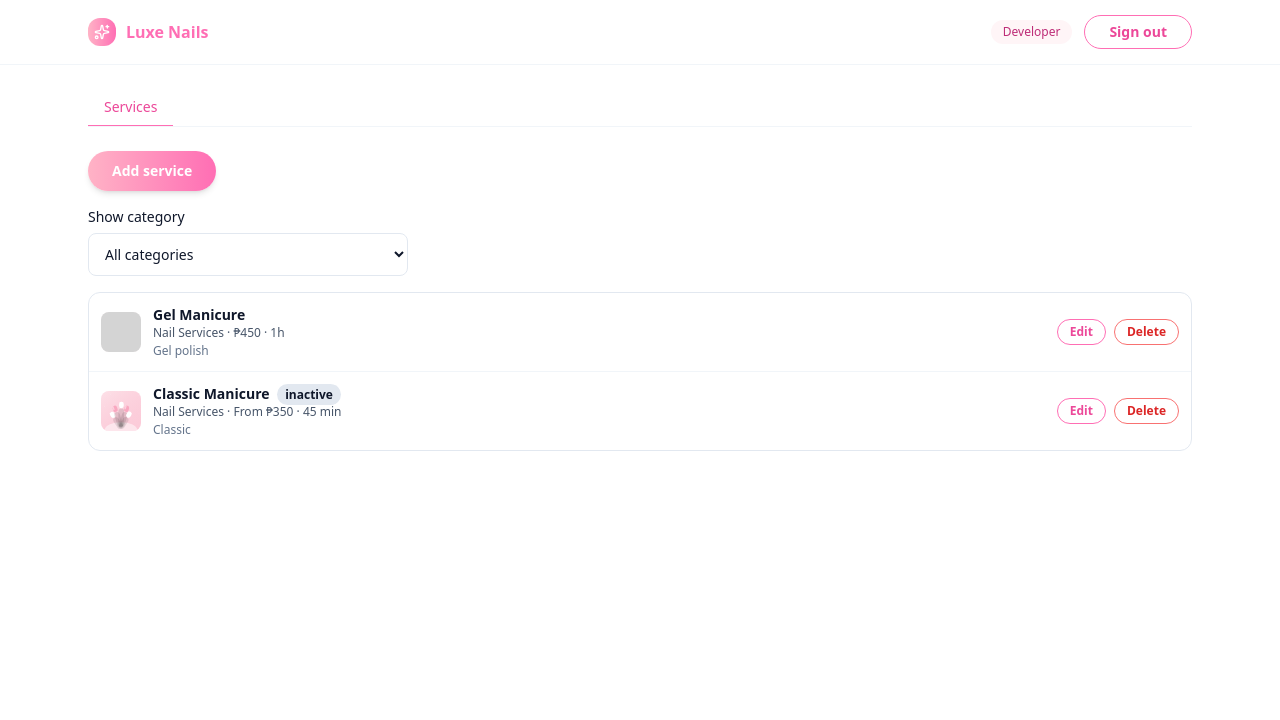
Test: Add service › other server errors are shown at the top of the form
Expected: the tab "Services" is shown, [88,89,173,127]
Expected: the text "Gel Manicure" is shown, [153,305,245,324]
Click the button "Add service". click: (152, 171)
box: [88,151,216,191]
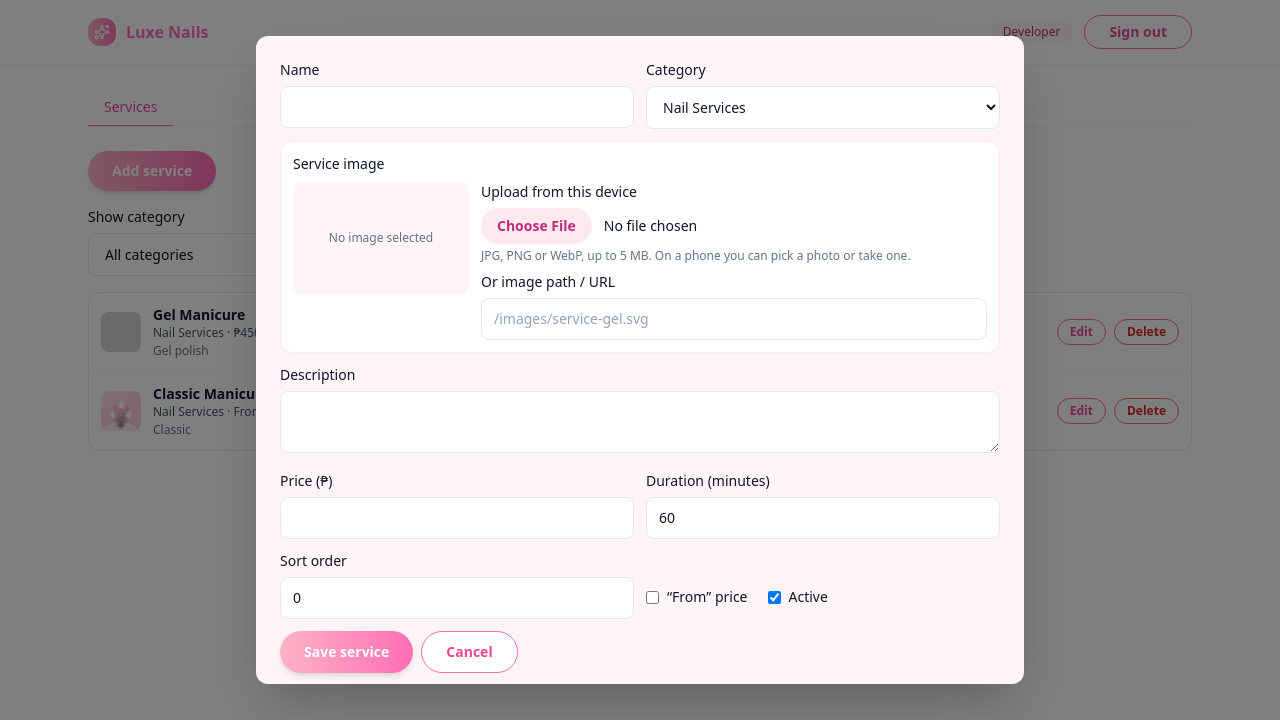
Expected: the file field labelled "Upload from this device" is shown, [481,208,987,244]
Type "Hot Stone Massage" into the field labelled "Name". click: (457, 107)
box: [280,86,634,128]
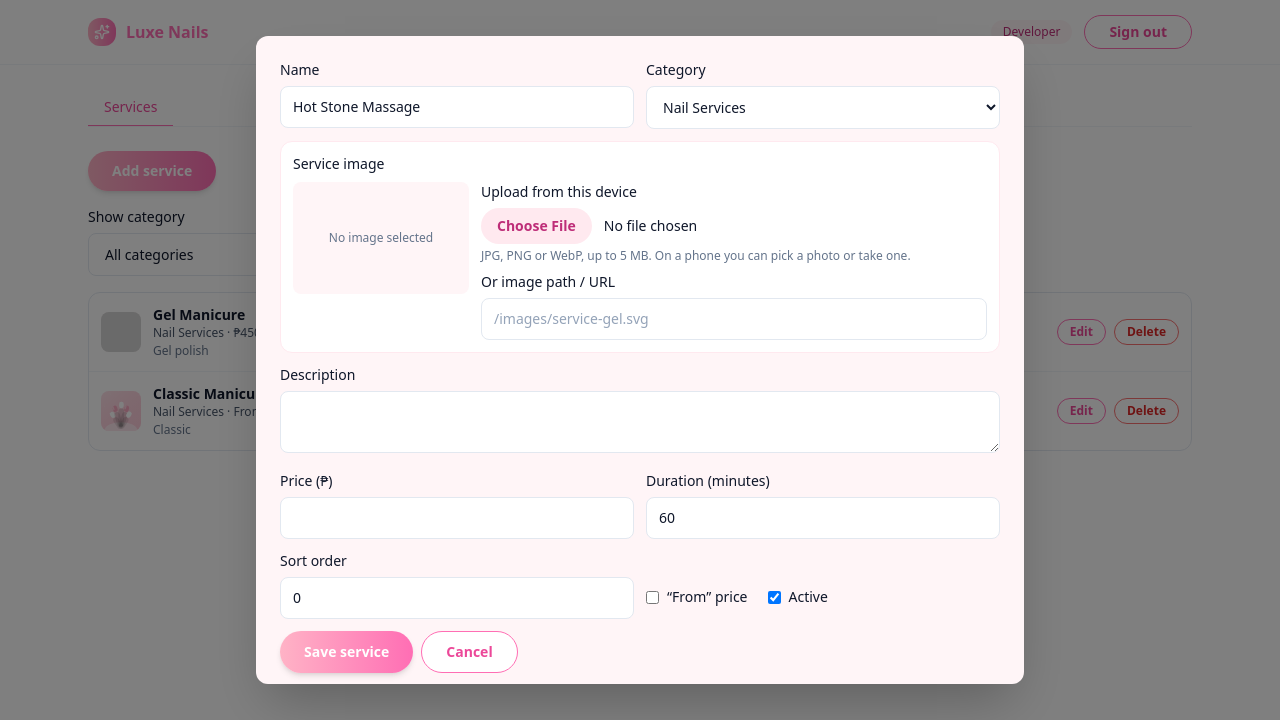
Type "Relaxing massage" into the text box labelled "Description". click: (640, 422)
box: [280,391,1000,453]
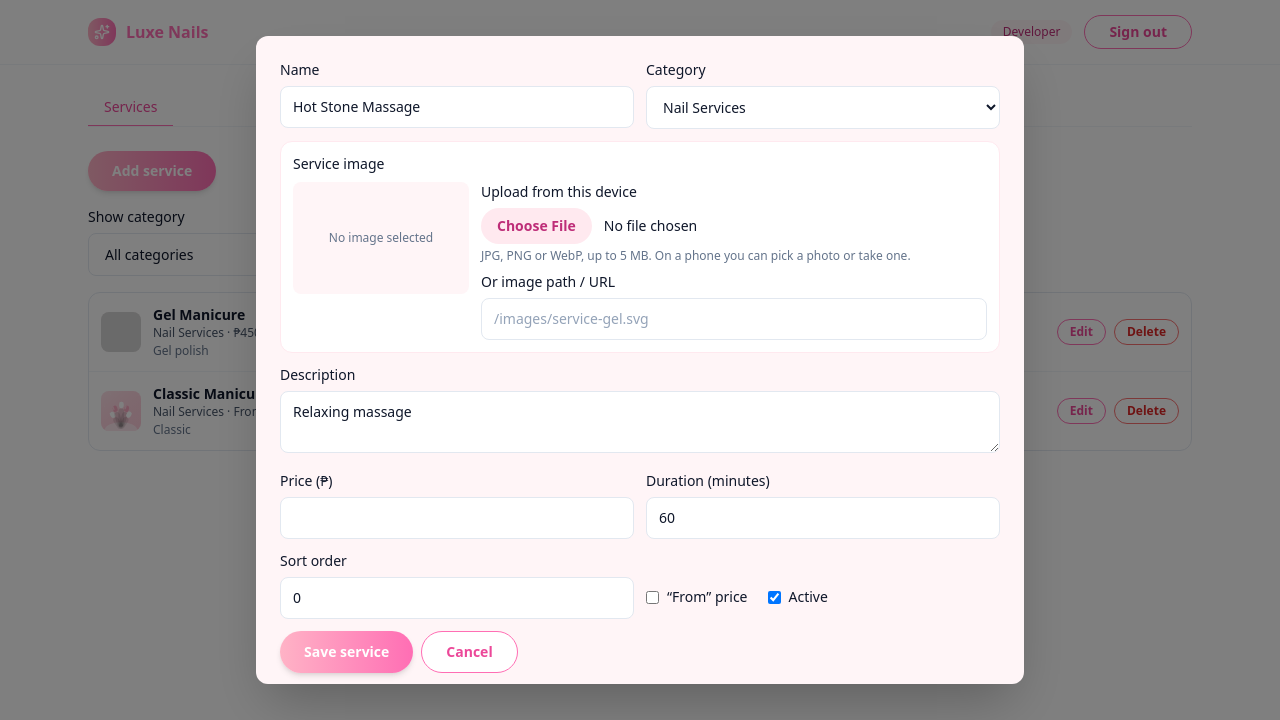
Type "900" into the number field labelled "Price (₱)". click: (457, 518)
box: [280,497,634,539]
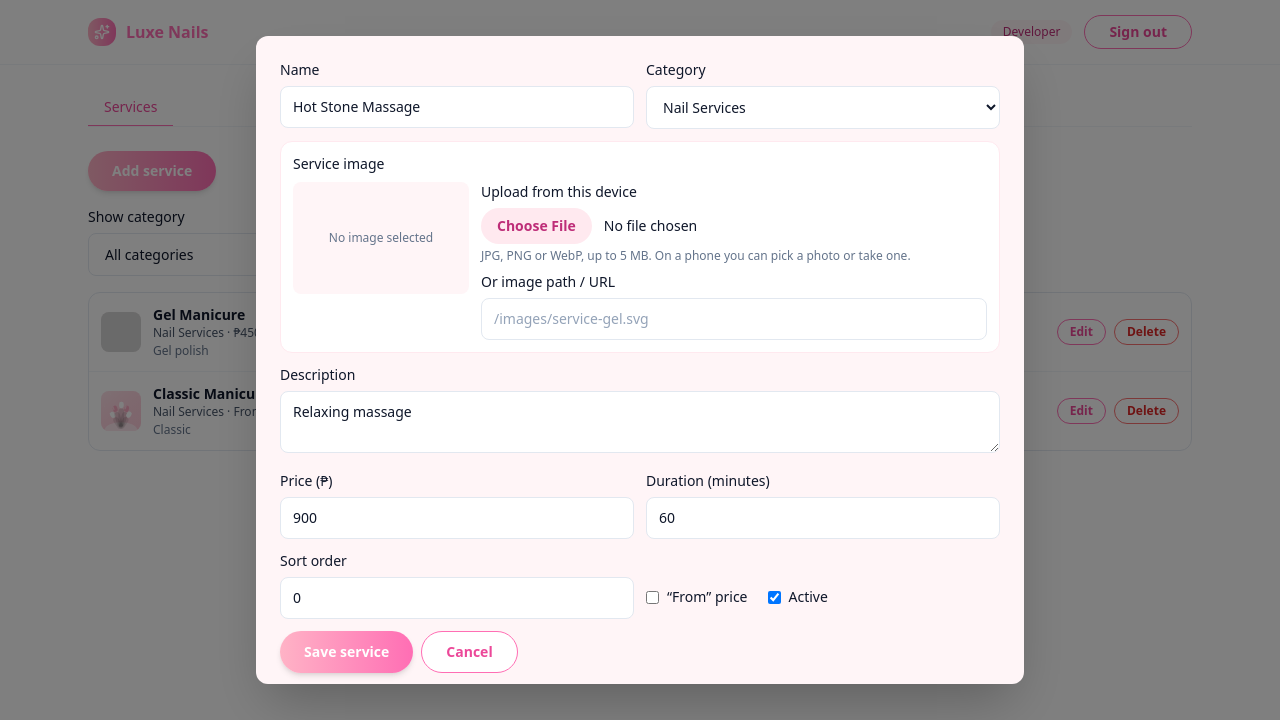
Click the button "Save service". click: (347, 652)
box: [280,631,413,673]
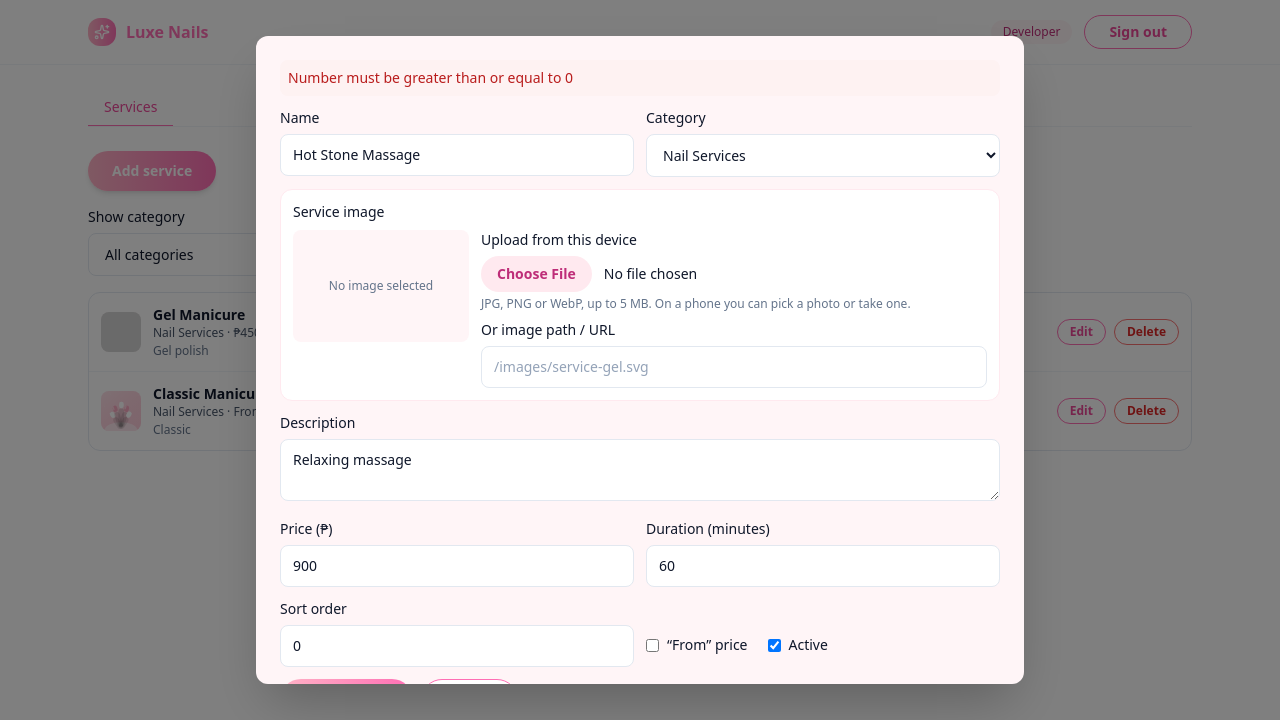
Expected: the text "Number must be greater than or equal to 0" is shown, [280,60,1000,96]
